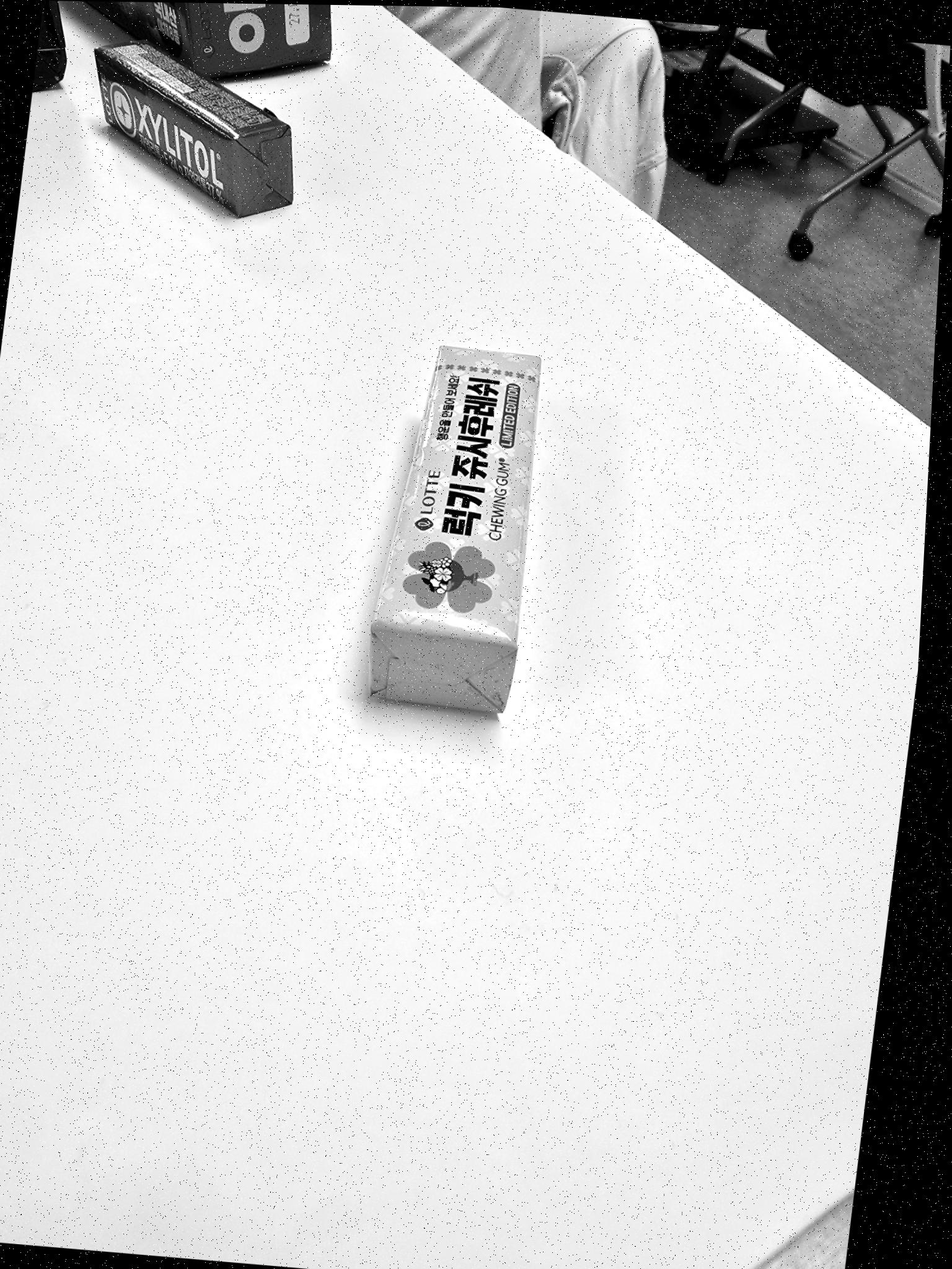gum_green: (95, 42, 293, 216)
gum_yellow: (369, 346, 540, 712)
